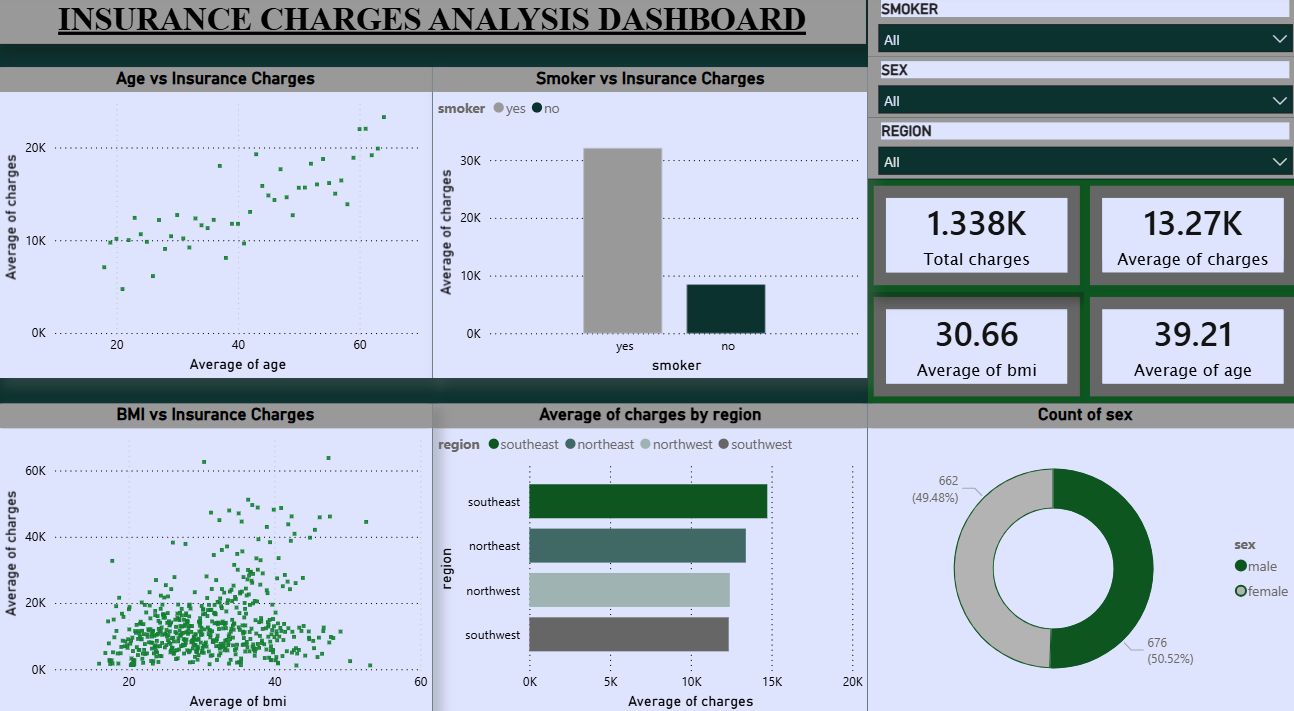

Layout of this report page (visuals, bound fields, positions):
{"tool":"powerbi","page":{"name":"Page 1","canvas":[1280,720],"ordinal":0},"visuals":[{"type":"textbox","box":[0,0,852.1,48],"z":0},{"type":"cardVisual","fields":{"Data":["Avg(insurance (1).bmi)"]},"box":[853.5,290.9,214.1,109.8],"z":1},{"type":"cardVisual","fields":{"Data":["CountNonNull(insurance (1).charges)"]},"box":[853.5,181.1,214.1,109.8],"z":2},{"type":"cardVisual","fields":{"Data":["Avg(insurance (1).charges)"]},"box":[1066.2,181.1,214.1,109.8],"z":3},{"type":"cardVisual","fields":{"Data":["Avg(insurance (1).age)"]},"box":[1066.2,290.9,214.1,109.8],"z":4},{"type":"scatterChart","title":"Age vs Insurance Charges","fields":{"X":["Avg(insurance (1).age)"],"Y":["Avg(insurance (1).charges)"],"Category":["insurance (1).age"]},"box":[0,71.4,426.8,304.6],"z":5},{"type":"donutChart","title":"Count of sex ","fields":{"Y":["CountNonNull(insurance (1).sex)"],"Category":["insurance (1).sex"]},"box":[853.5,400.7,426.8,304.6],"z":6},{"type":"barChart","title":"Average of charges by region","fields":{"Category":["insurance (1).region"],"Y":["Avg(insurance (1).charges)"],"Series":["insurance (1).region"]},"box":[426.8,400.7,426.8,304.6],"z":7},{"type":"scatterChart","title":"BMI vs Insurance Charges","fields":{"Y":["Avg(insurance (1).charges)"],"X":["insurance (1).bmi"],"Category":["insurance (1).bmi1"]},"box":[0,400.7,426.8,304.6],"z":8},{"type":"columnChart","title":"Smoker vs Insurance Charges","fields":{"Y":["Avg(insurance (1).charges)"],"Category":["insurance (1).smoker"],"Series":["insurance (1).smoker"]},"box":[426.8,71.4,426.8,304.6],"z":9},{"type":"slicer","fields":{"Values":["insurance (1).smoker"]},"box":[853.5,0,426.8,60.4],"z":10},{"type":"slicer","fields":{"Values":["insurance (1).sex"]},"box":[853.5,60.4,426.8,60.4],"z":11},{"type":"slicer","fields":{"Values":["insurance (1).region"]},"box":[853.5,120.8,426.8,60.4],"z":12}]}

Visuals, with their boxes in screenshot pixels (x1, y1, x2, y2), scaled from the page's 1280x720 canvas onto the 1294x711 screenshot:
textbox: {"x1": 0, "y1": 0, "x2": 861, "y2": 47}
cardVisual - Avg(insurance (1).bmi): {"x1": 863, "y1": 287, "x2": 1079, "y2": 396}
cardVisual - CountNonNull(insurance (1).charges): {"x1": 863, "y1": 179, "x2": 1079, "y2": 287}
cardVisual - Avg(insurance (1).charges): {"x1": 1078, "y1": 179, "x2": 1293, "y2": 287}
cardVisual - Avg(insurance (1).age): {"x1": 1078, "y1": 287, "x2": 1293, "y2": 396}
"Age vs Insurance Charges" scatterChart: {"x1": 0, "y1": 71, "x2": 431, "y2": 371}
"Count of sex " donutChart: {"x1": 863, "y1": 396, "x2": 1293, "y2": 696}
"Average of charges by region" barChart: {"x1": 431, "y1": 396, "x2": 863, "y2": 696}
"BMI vs Insurance Charges" scatterChart: {"x1": 0, "y1": 396, "x2": 431, "y2": 696}
"Smoker vs Insurance Charges" columnChart: {"x1": 431, "y1": 71, "x2": 863, "y2": 371}
slicer - insurance (1).smoker: {"x1": 863, "y1": 0, "x2": 1293, "y2": 60}
slicer - insurance (1).sex: {"x1": 863, "y1": 60, "x2": 1293, "y2": 119}
slicer - insurance (1).region: {"x1": 863, "y1": 119, "x2": 1293, "y2": 179}
